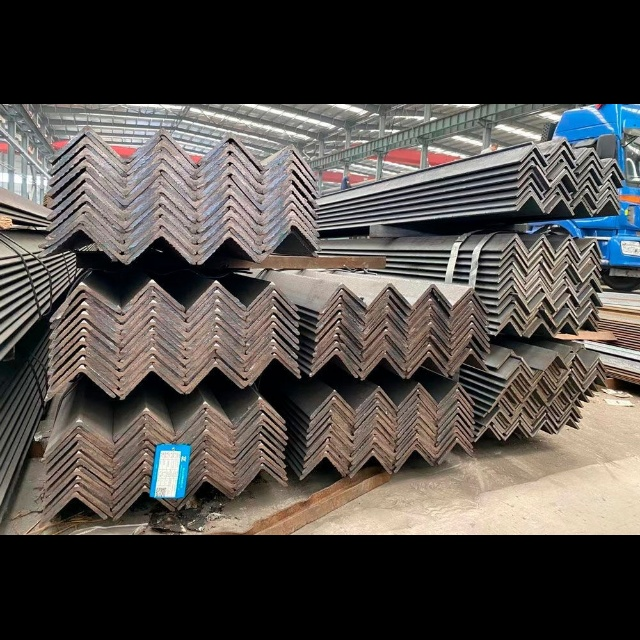Angle: (51, 128, 124, 162), (49, 152, 123, 185), (49, 164, 123, 197), (49, 186, 122, 219), (48, 208, 121, 241), (88, 158, 158, 192), (50, 175, 122, 208), (86, 226, 155, 260), (51, 285, 118, 320), (128, 131, 196, 165), (88, 192, 158, 225), (88, 181, 158, 214), (49, 198, 121, 230), (41, 227, 113, 259), (89, 147, 158, 180), (53, 141, 124, 173), (127, 179, 195, 212), (44, 219, 118, 249), (49, 333, 118, 365), (87, 215, 156, 247), (89, 136, 157, 168), (45, 480, 110, 513), (51, 306, 118, 338), (89, 171, 156, 203), (46, 430, 110, 463), (128, 166, 194, 198), (42, 489, 112, 519), (163, 138, 226, 171), (89, 205, 156, 236), (46, 464, 110, 496), (52, 316, 118, 347), (51, 341, 117, 372), (46, 423, 112, 454), (45, 456, 111, 487), (127, 189, 193, 220), (50, 352, 118, 382), (51, 324, 116, 355), (53, 296, 116, 327), (164, 162, 226, 193), (200, 135, 262, 166), (46, 438, 110, 468), (45, 473, 109, 503), (121, 350, 182, 381), (165, 151, 226, 182), (87, 365, 150, 395), (122, 304, 185, 334), (164, 186, 226, 216), (164, 197, 226, 227), (199, 181, 259, 212), (129, 233, 193, 262), (128, 211, 192, 240), (201, 147, 259, 179), (51, 361, 117, 389), (164, 175, 225, 205), (163, 230, 226, 259), (234, 145, 291, 177), (128, 223, 193, 251), (114, 472, 174, 502), (121, 360, 183, 389), (113, 481, 175, 510), (164, 208, 226, 237), (87, 300, 151, 328), (130, 144, 191, 173), (233, 156, 290, 187), (49, 370, 112, 398), (87, 309, 150, 337), (130, 201, 193, 229), (128, 156, 191, 184), (123, 331, 183, 360), (83, 420, 141, 450), (199, 213, 259, 242), (230, 219, 290, 248), (48, 448, 110, 476), (116, 489, 172, 520), (233, 177, 289, 208), (123, 323, 182, 352), (87, 357, 150, 384), (88, 338, 151, 365), (87, 291, 150, 318), (80, 438, 143, 465), (263, 147, 316, 179), (82, 427, 140, 456), (200, 160, 258, 189), (123, 315, 183, 343), (178, 473, 232, 504), (126, 282, 183, 311), (232, 167, 289, 196), (200, 203, 259, 231), (231, 209, 290, 237), (263, 157, 318, 187), (200, 224, 258, 252), (232, 198, 290, 226), (164, 220, 224, 247), (88, 347, 150, 373), (187, 284, 244, 312), (186, 348, 242, 376), (116, 412, 172, 440), (201, 235, 257, 263), (187, 321, 241, 350), (199, 192, 257, 219), (231, 230, 289, 257), (188, 329, 243, 357), (146, 413, 201, 441), (177, 406, 232, 434), (123, 370, 180, 397), (179, 480, 232, 509), (263, 177, 316, 206), (265, 167, 318, 196), (188, 365, 242, 393), (187, 313, 243, 340), (200, 171, 256, 198), (263, 188, 317, 216), (189, 339, 242, 367), (123, 296, 182, 321), (237, 460, 287, 489), (115, 430, 163, 460), (189, 304, 242, 331), (264, 215, 317, 242), (264, 207, 317, 234), (188, 294, 243, 320), (47, 496, 104, 521), (218, 357, 270, 384), (248, 325, 298, 353), (178, 415, 231, 441), (236, 416, 287, 443), (246, 343, 297, 370), (219, 349, 270, 376), (237, 467, 286, 495), (264, 199, 316, 225), (265, 224, 319, 249), (246, 334, 296, 361), (251, 356, 299, 384), (248, 294, 299, 320), (218, 340, 269, 366), (249, 351, 298, 378), (114, 443, 154, 476), (236, 423, 286, 449), (235, 407, 285, 433), (236, 446, 284, 473), (208, 414, 259, 439), (248, 302, 297, 328), (235, 454, 285, 479), (208, 444, 258, 469), (236, 401, 284, 427), (114, 456, 154, 487), (235, 437, 284, 462), (234, 431, 283, 456), (248, 311, 297, 336), (220, 299, 271, 323), (246, 320, 297, 344), (219, 333, 270, 357), (218, 308, 271, 331), (217, 317, 270, 340), (220, 289, 270, 313), (218, 326, 268, 350), (312, 343, 358, 369), (114, 465, 152, 496), (209, 409, 257, 433), (320, 286, 364, 312), (115, 451, 154, 480), (249, 285, 296, 309), (312, 352, 356, 377), (310, 392, 354, 417), (320, 295, 365, 319), (304, 435, 349, 459), (307, 428, 350, 453), (318, 299, 362, 323), (301, 455, 345, 479), (317, 308, 362, 331), (317, 316, 362, 339), (307, 414, 350, 438), (315, 325, 361, 347), (310, 400, 352, 424), (353, 425, 393, 450), (308, 407, 349, 431), (302, 449, 346, 471), (363, 332, 405, 355), (355, 419, 395, 443), (408, 353, 446, 378), (342, 322, 385, 344), (344, 298, 387, 320), (368, 286, 409, 309), (342, 353, 383, 376), (410, 303, 449, 327), (387, 345, 426, 369), (342, 314, 386, 335), (304, 444, 346, 466), (186, 469, 232, 489), (185, 423, 231, 443), (350, 447, 391, 469), (333, 416, 374, 438), (409, 347, 448, 370), (308, 421, 347, 444), (342, 346, 384, 367), (389, 323, 429, 345), (356, 405, 396, 427), (331, 438, 371, 460), (451, 325, 489, 348), (367, 293, 408, 314), (367, 302, 406, 324), (408, 339, 447, 361), (335, 402, 374, 424), (355, 411, 394, 433), (396, 428, 433, 451), (342, 339, 384, 359), (363, 357, 403, 378), (410, 309, 448, 331), (358, 389, 396, 411), (351, 454, 389, 476), (354, 440, 392, 462), (397, 406, 435, 428), (451, 303, 487, 326), (192, 432, 233, 452), (367, 309, 406, 330), (409, 326, 448, 347), (189, 456, 232, 475), (433, 336, 470, 358), (188, 464, 233, 482), (451, 319, 489, 340), (398, 392, 436, 413), (453, 311, 489, 333), (400, 386, 436, 408), (396, 449, 430, 472), (365, 344, 404, 364), (432, 299, 469, 320), (452, 332, 489, 353), (414, 287, 451, 308), (398, 415, 435, 436), (452, 352, 487, 374), (399, 421, 434, 443), (398, 401, 436, 421), (452, 296, 486, 318), (439, 384, 473, 406), (357, 396, 394, 416), (439, 418, 473, 439), (438, 392, 472, 413), (454, 290, 487, 311), (397, 437, 433, 456), (439, 405, 473, 425), (418, 437, 453, 456), (438, 399, 473, 418), (440, 442, 471, 463), (437, 430, 471, 449), (439, 412, 473, 431), (547, 141, 575, 160), (520, 146, 548, 164), (538, 167, 564, 186), (518, 155, 545, 172), (516, 188, 543, 205), (499, 259, 526, 276), (519, 194, 544, 212), (518, 172, 544, 189), (517, 180, 543, 197), (552, 173, 578, 190), (550, 149, 576, 166), (580, 158, 604, 176), (519, 296, 546, 312), (544, 262, 568, 280), (553, 164, 578, 181), (515, 287, 540, 304), (513, 270, 538, 287), (502, 235, 527, 252), (498, 267, 524, 283), (499, 283, 525, 299), (579, 150, 603, 167), (517, 248, 541, 265), (543, 247, 567, 264), (316, 339, 340, 356), (528, 322, 553, 338), (516, 303, 541, 319), (514, 280, 539, 296), (498, 314, 524, 329), (500, 244, 526, 259), (506, 372, 532, 387), (517, 240, 541, 256), (544, 241, 568, 257), (541, 271, 565, 287), (543, 287, 567, 303), (495, 321, 520, 336), (487, 410, 512, 425), (581, 240, 603, 257), (573, 264, 595, 281), (547, 182, 570, 198), (577, 175, 600, 191), (554, 320, 577, 336), (544, 354, 567, 370), (548, 198, 572, 213), (515, 264, 539, 279), (516, 257, 540, 272), (500, 251, 524, 266), (530, 236, 554, 251), (546, 311, 570, 326), (572, 377, 596, 392), (572, 369, 596, 384), (544, 378, 568, 393), (507, 363, 531, 378), (548, 295, 570, 311), (498, 275, 523, 289), (575, 184, 598, 199), (557, 237, 580, 252), (575, 362, 598, 377), (494, 424, 517, 439), (604, 161, 625, 177), (521, 422, 545, 436), (546, 371, 570, 385), (567, 280, 588, 296), (584, 198, 606, 213), (597, 199, 619, 214), (579, 254, 601, 269), (581, 292, 603, 307), (577, 355, 599, 370), (584, 372, 607, 386), (538, 391, 561, 405), (560, 406, 583, 420), (548, 412, 571, 426), (572, 200, 592, 216), (599, 192, 620, 207), (598, 185, 619, 200), (572, 243, 593, 258), (501, 308, 525, 321), (512, 388, 536, 401), (580, 277, 602, 291), (570, 288, 592, 302), (567, 303, 589, 317), (603, 169, 622, 185), (559, 418, 579, 433), (476, 428, 499, 441), (571, 311, 592, 325), (498, 297, 515, 314), (587, 359, 606, 374), (497, 290, 515, 305), (586, 366, 605, 380), (502, 400, 521, 414), (534, 375, 555, 387), (548, 157, 567, 170), (578, 319, 597, 331), (545, 190, 561, 204), (537, 408, 555, 420)
